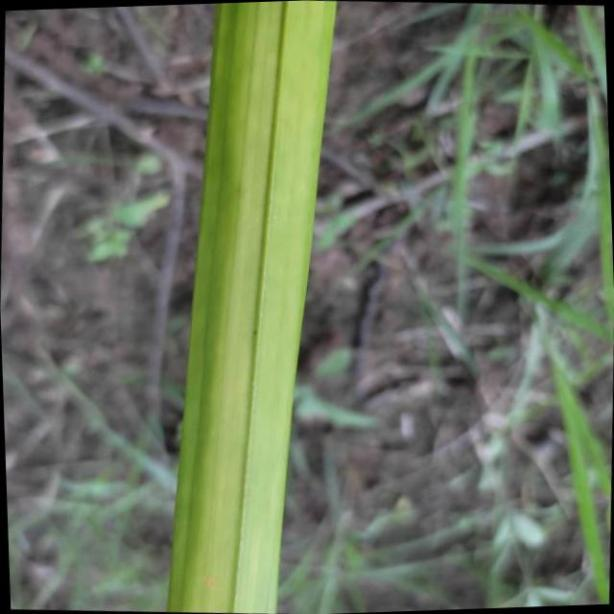nitrogen: (163, 0, 337, 614)
